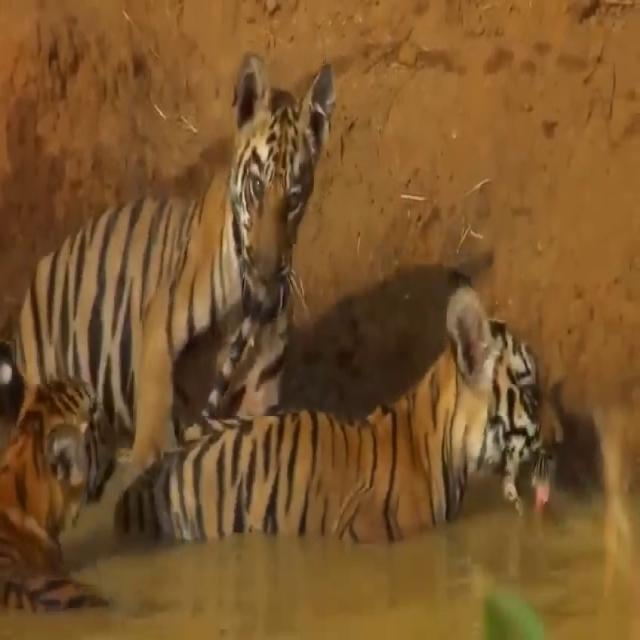tiger: (13, 51, 336, 466), (124, 288, 565, 547)
